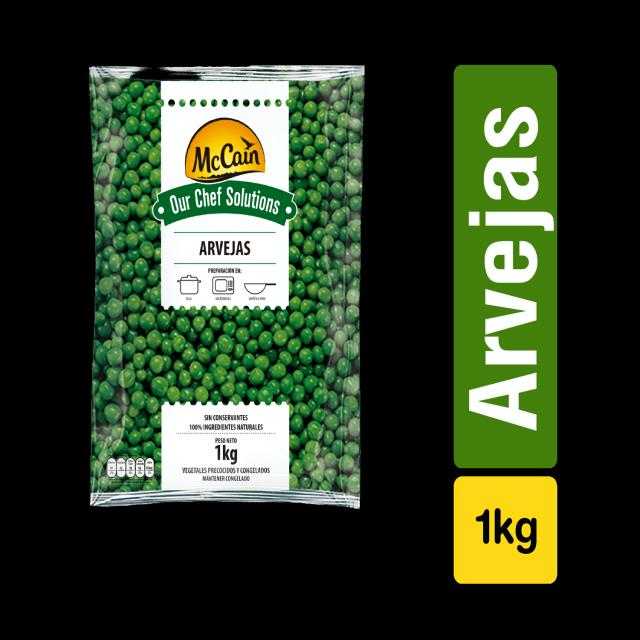arvejas: (96, 314, 356, 406)
